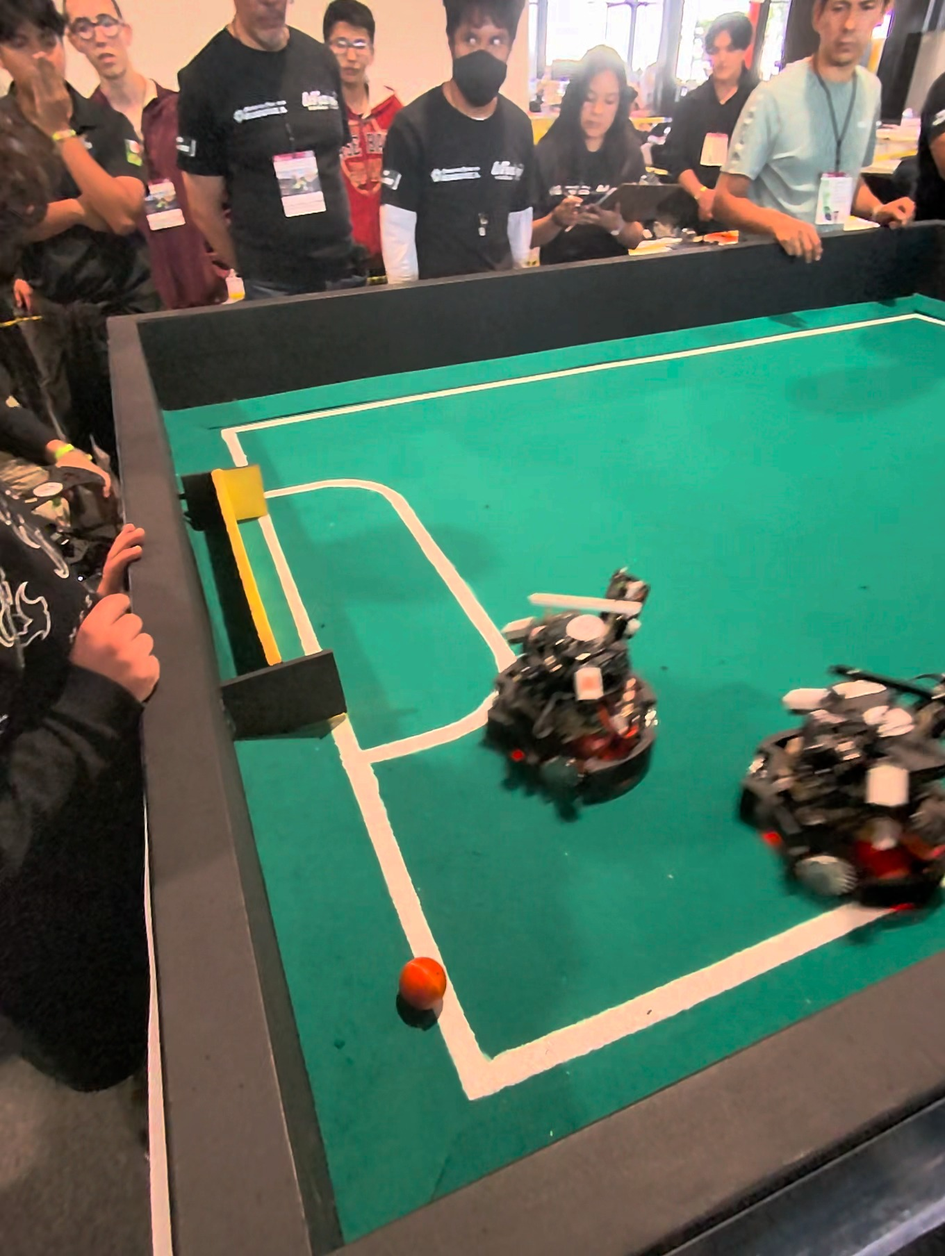Robot: (719, 636, 941, 929), (474, 561, 663, 826)
pelota: (397, 958, 447, 1025)
